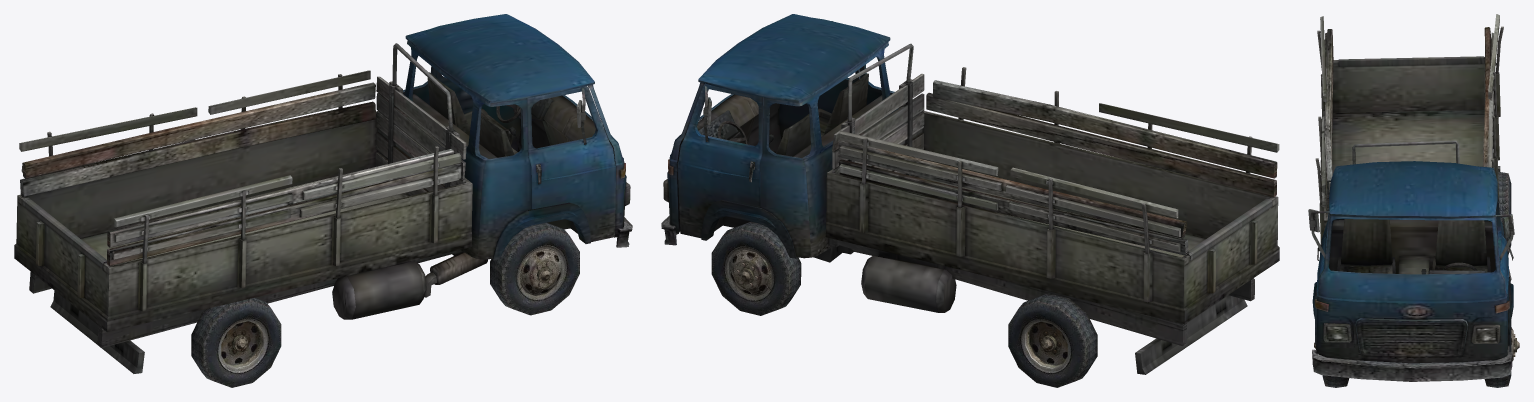
File: truck.glb
The picture shows the model from 3 angles, left to right: view 1: azimuth 30°, elevation 25°; view 2: azimuth 150°, elevation 25°; view 3: azimuth 270°, elevation 25°; orthographic projection. The views are drawn at different scales.
Parts seen in each view (by area): view 1: 1_truck001c_01, 0_trucktires; view 2: 1_truck001c_01, 0_trucktires; view 3: 1_truck001c_01, 0_trucktires.
Boxes of the visible parts, <box> form: 1_truck001c_01: <box>14,14,632,373</box>; 0_trucktires: <box>191,222,579,387</box>; 1_truck001c_01: <box>661,14,1279,374</box>; 0_trucktires: <box>711,221,1097,387</box>; 1_truck001c_01: <box>1308,14,1514,381</box>; 0_trucktires: <box>1314,172,1519,387</box>.
Bounding box in the file's own units: 6.14 × 2.59 × 2.35.
Materials: 2 (2 with a texture image).
